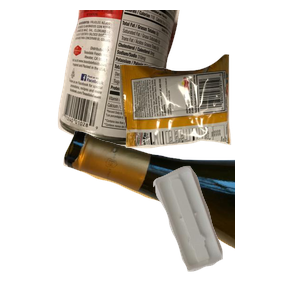glass: (60, 128, 300, 300)
metal: (55, 10, 227, 149)
plastic: (150, 163, 300, 300)
trash: (117, 52, 300, 193)
